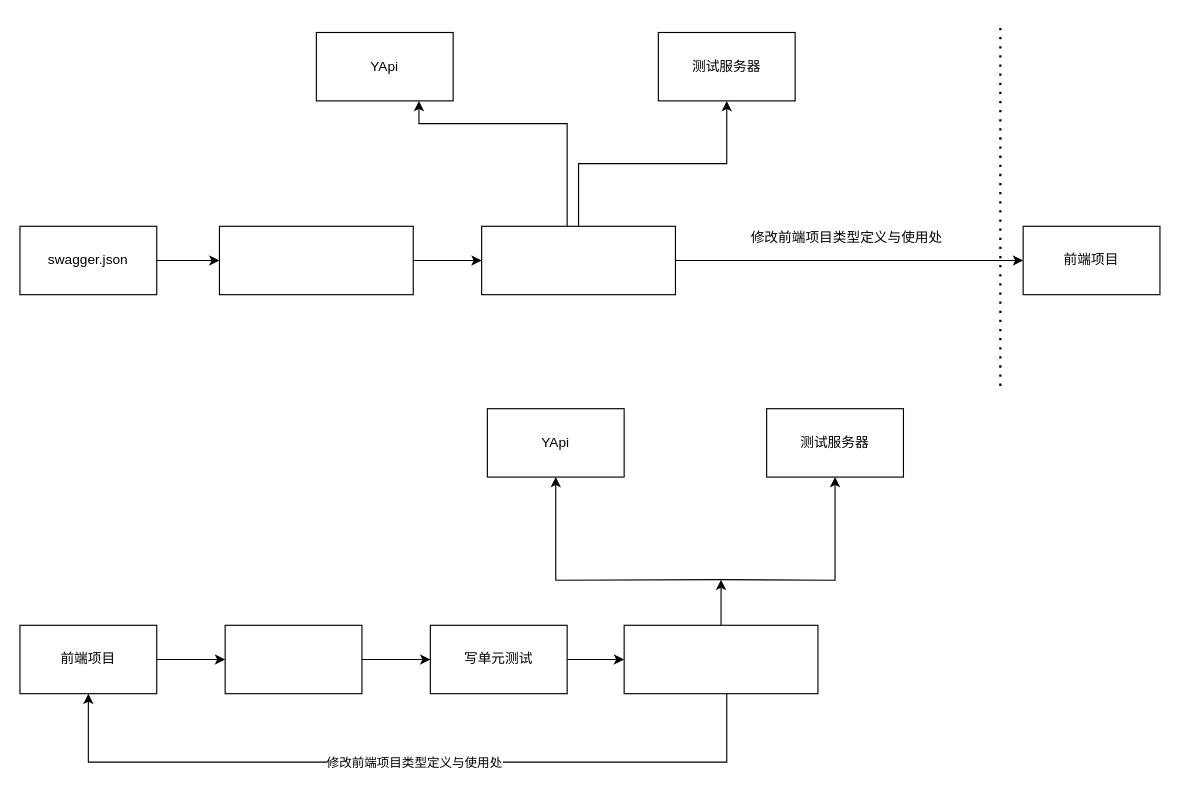
The diagram is 1180 pixels wide and 791 high, and some of its shapes have lost their labels. The shapes that lost their labels are listed below. From the top down, each one's box as (x1, y1, x2, y2) in pixels, then its label:
(218, 225, 413, 295): 生成 ts 类型定义和测试用例
(481, 225, 675, 295): 验证返回值是否符合json schema
(224, 624, 362, 694): 根据类型定义，生成zod schema
(623, 624, 818, 694): 验证返回值是否符合zod schema
